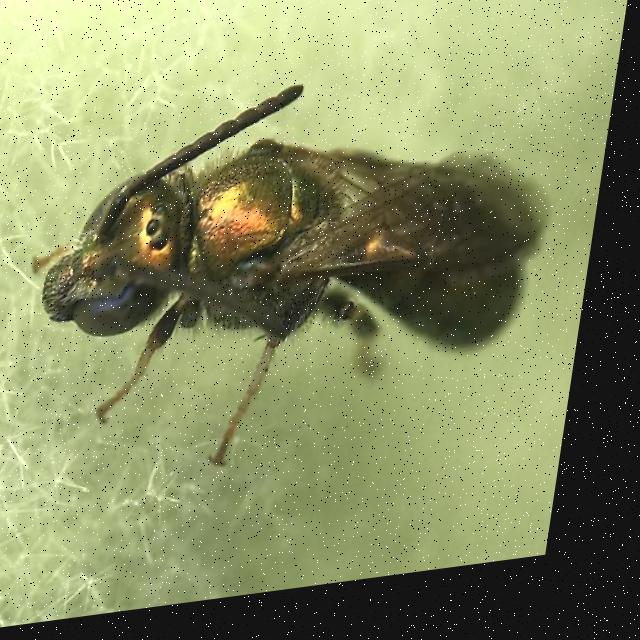Lasioglossum: (31, 46, 590, 502)
